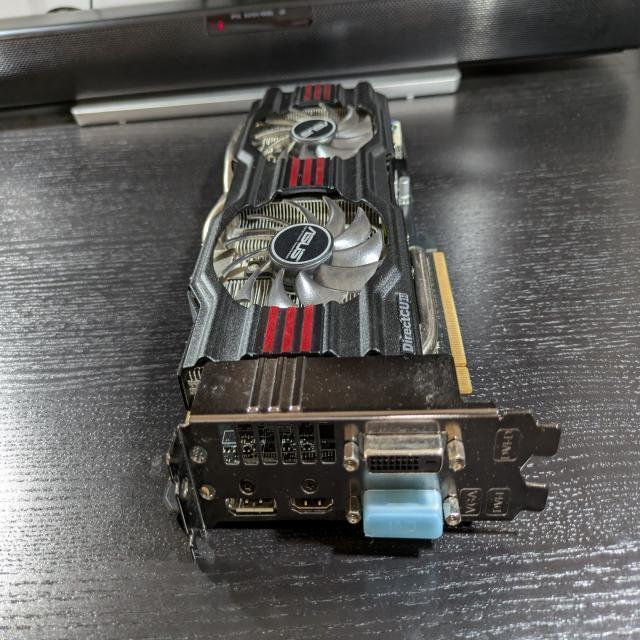GPU: (166, 73, 560, 546)
